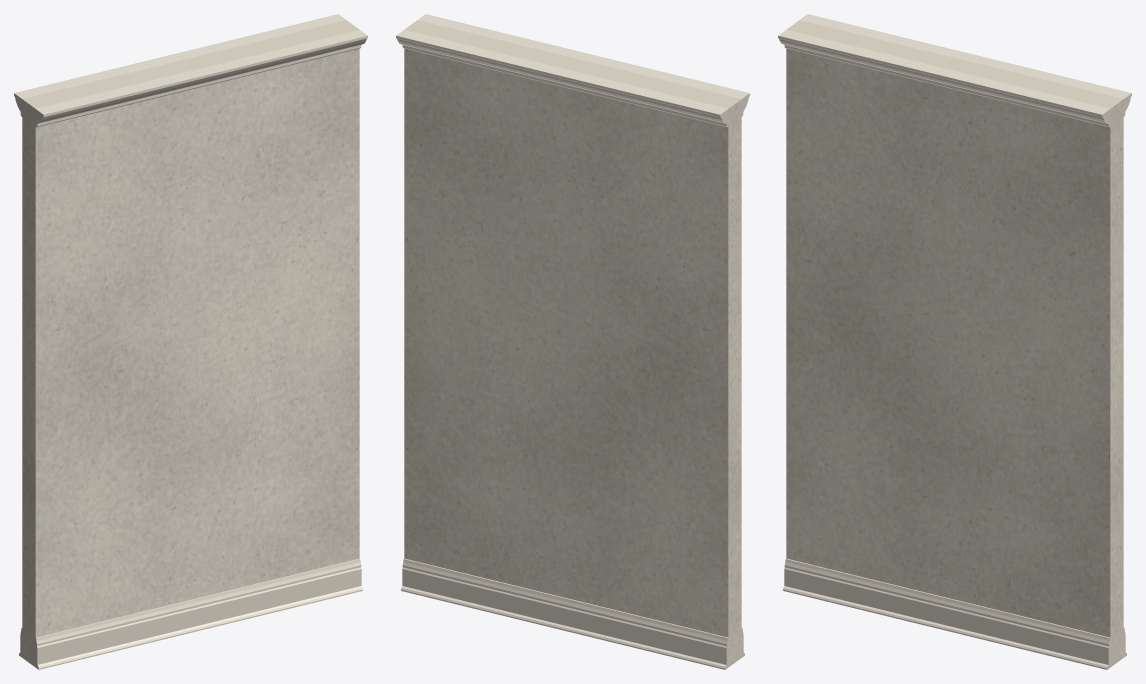
The model's file is interior_wall_end.glb.
3 views of the same model, side by side, from view 1: azimuth 30°, elevation 25°; view 2: azimuth 150°, elevation 25°; view 3: azimuth 330°, elevation 25° (orthographic).
Parts seen in each view (by area): view 1: interior_wall_end_plaster, molduras; view 2: interior_wall_end_plaster, molduras; view 3: interior_wall_end_plaster, molduras.
Part boxes in pixels (x1,y1,x2,y2): interior_wall_end_plaster: (22, 20, 359, 667); molduras: (14, 14, 367, 669); interior_wall_end_plaster: (404, 20, 741, 667); molduras: (396, 14, 749, 669); interior_wall_end_plaster: (786, 20, 1123, 667); molduras: (778, 14, 1131, 669).
Size of the model in its own units: 1.7 by 2.8 by 0.27.
Materials: 2 (1 with a texture image).
